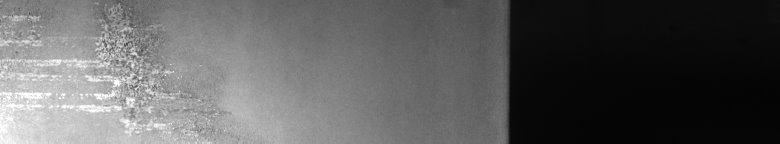hc: (4, 13, 184, 130)
